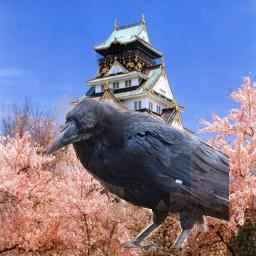Crow: (44, 94, 229, 248)
